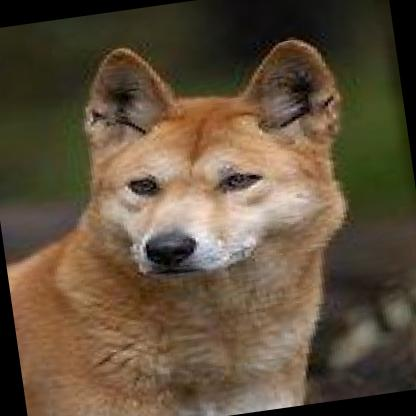dingo: (0, 6, 383, 416)
